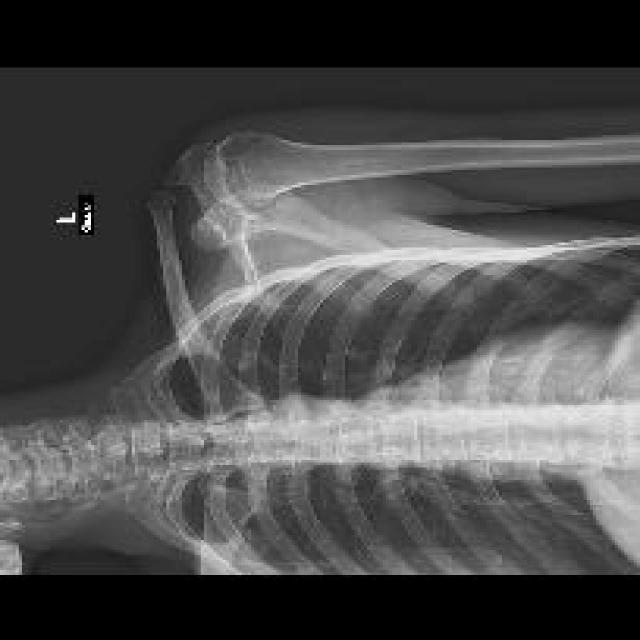normal: (3, 131, 637, 573)
